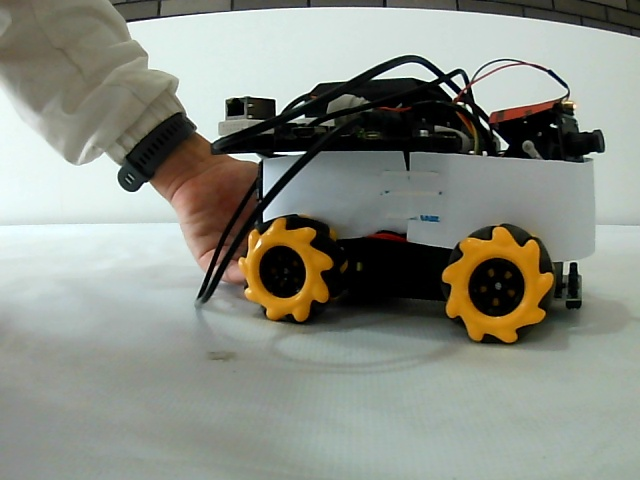car: (219, 84, 585, 324)
paper: (262, 158, 579, 223)
